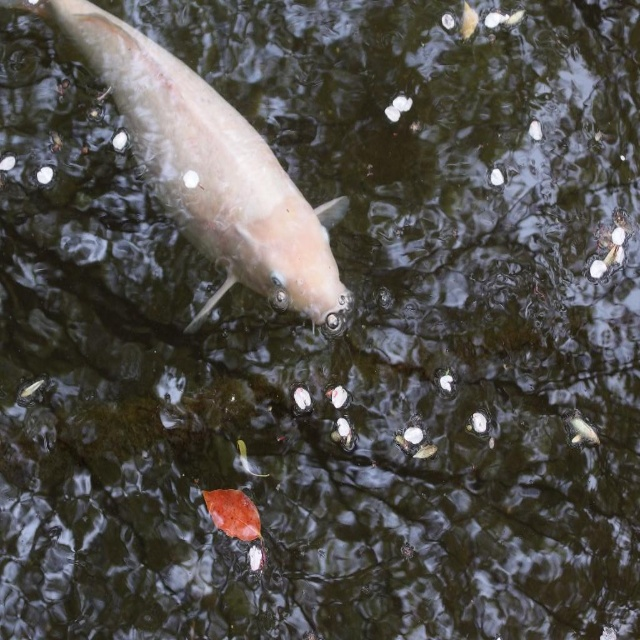Fish: (0, 0, 350, 333)
